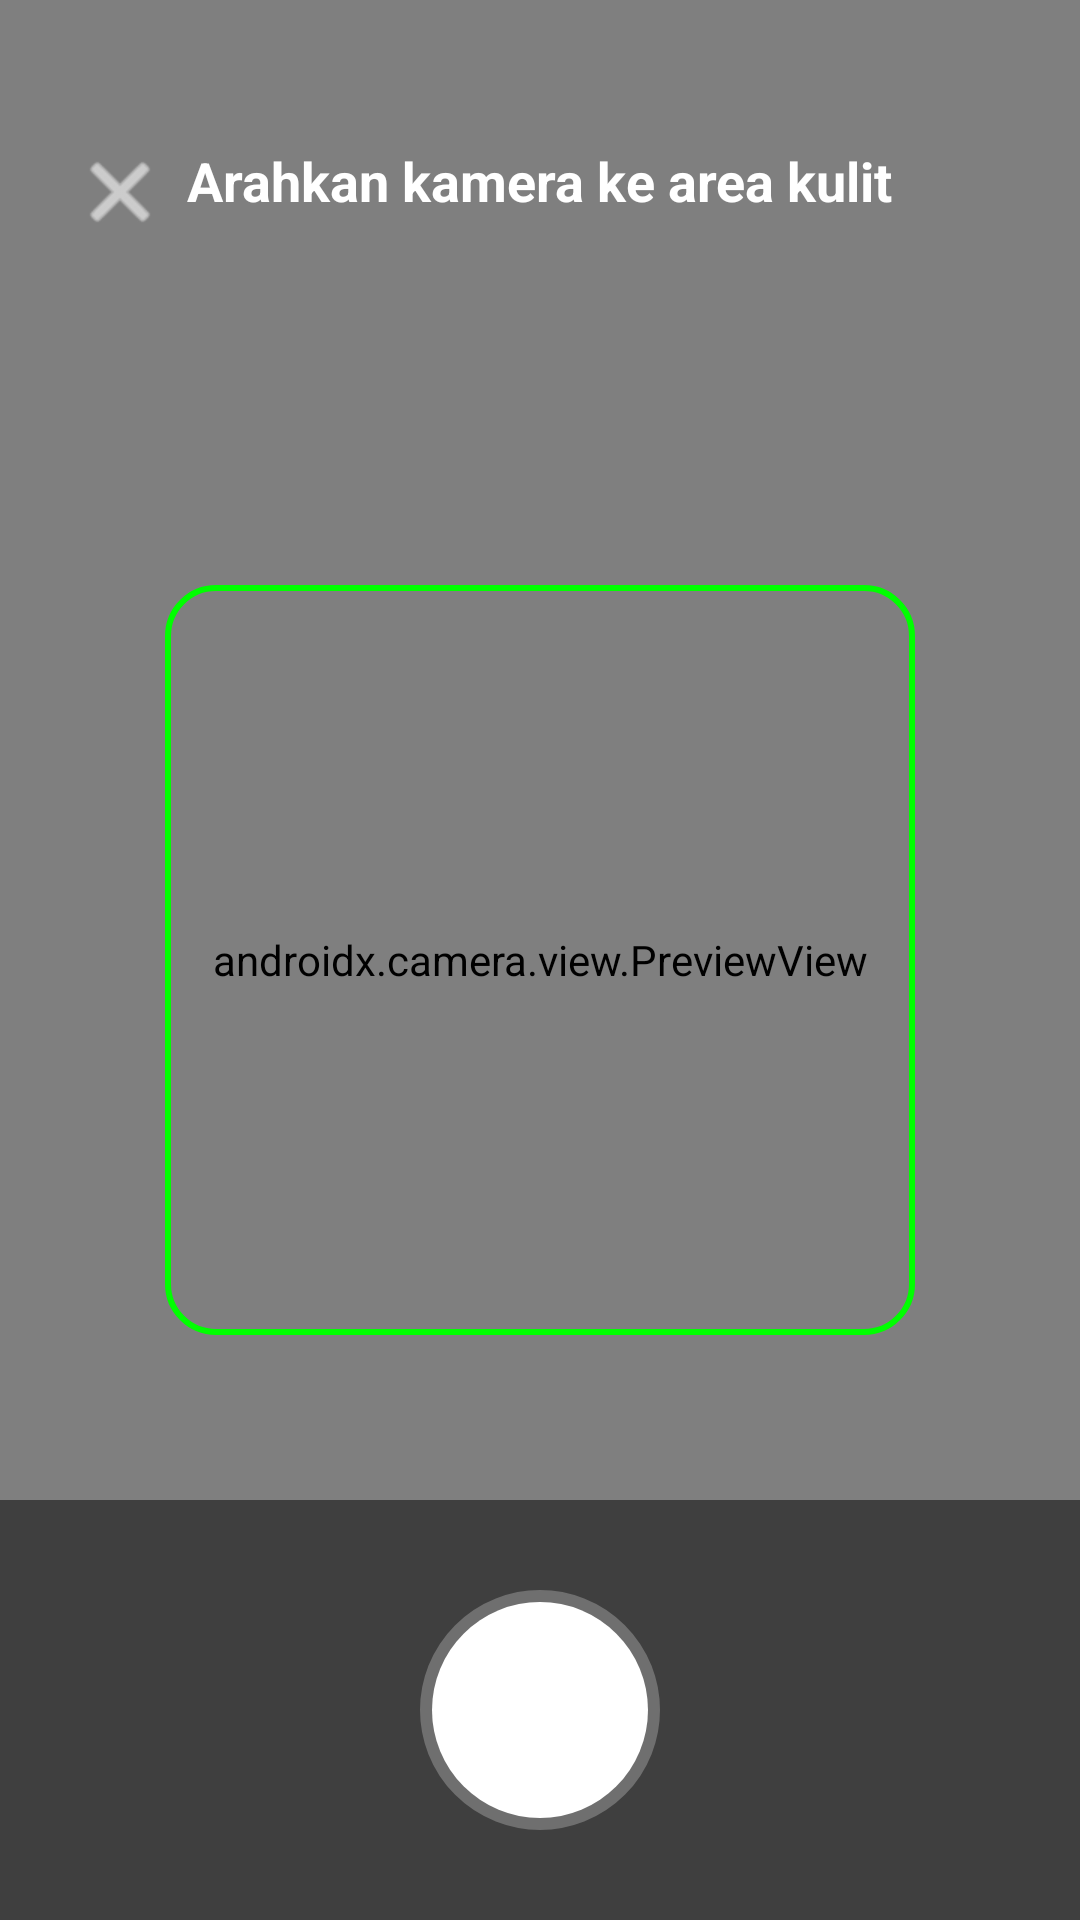

Named icons in this screenshot (1080 × 1920) and their bounding boxes, [x1, y1, x2, y2]:
close clear cancel: [90, 162, 150, 222]
